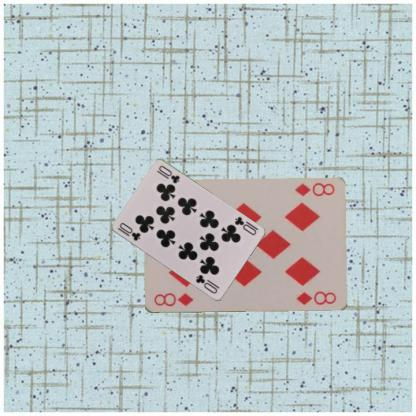10c: (232, 214, 259, 236), (116, 220, 142, 242)
8d: (292, 180, 336, 198), (151, 291, 194, 308)
